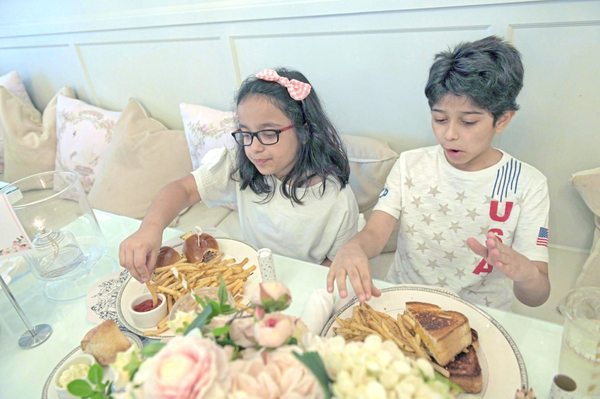soup: (403, 302, 483, 393)
